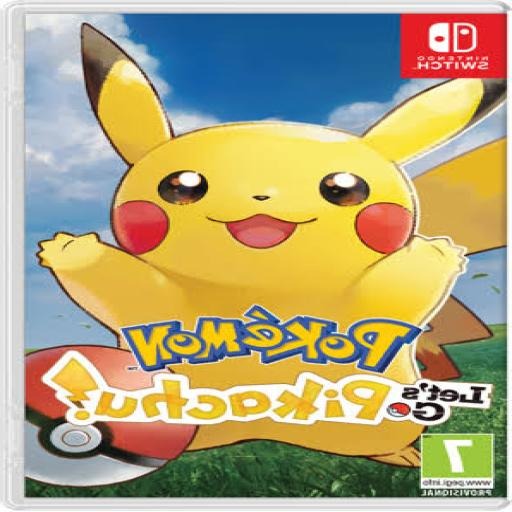Pikachu: (37, 23, 509, 469)
